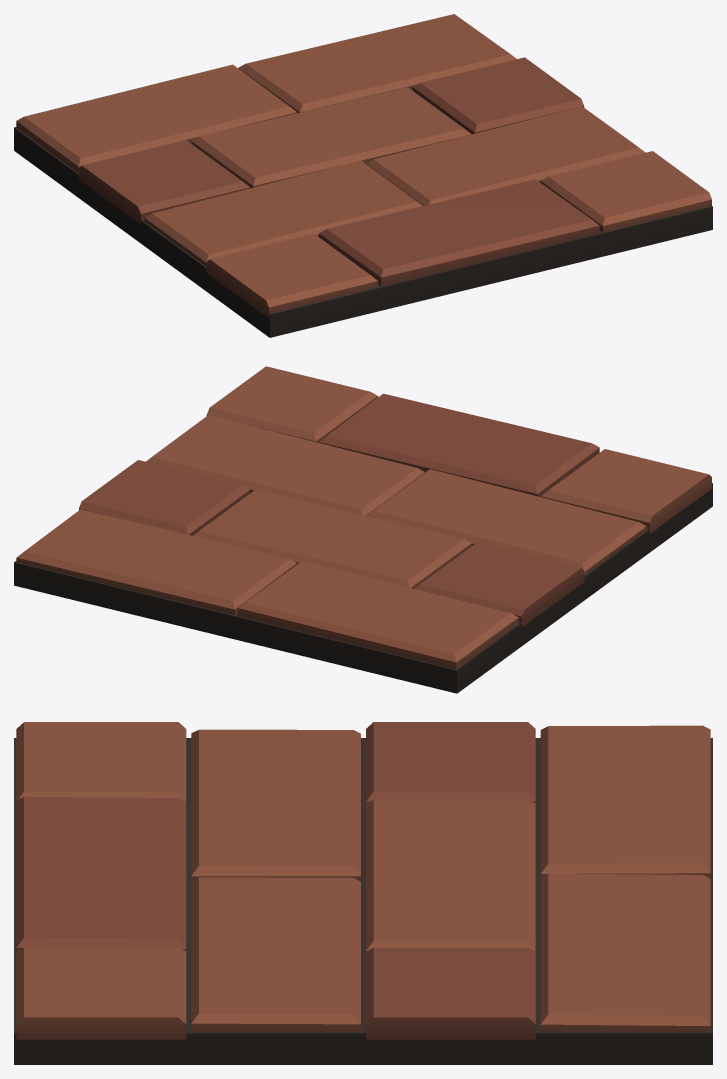
File: floor_bricks_small_C.glb
3 renders of one model, top to bottom at view 1: azimuth 30°, elevation 25°; view 2: azimuth 150°, elevation 25°; view 3: azimuth 270°, elevation 25°, orthographic. The views are drawn at different scales.
Visible parts, largest first — view 1: Item; view 2: Item; view 3: Item.
Boxes of the visible parts, left/top/right/bottom form: Item: left=14, top=14, right=712, bottom=337; Item: left=14, top=366, right=712, bottom=693; Item: left=14, top=722, right=712, bottom=1064.
Size of the model in its own units: 2 by 0.1608 by 2.
Materials: 1 (1 with a texture image).
